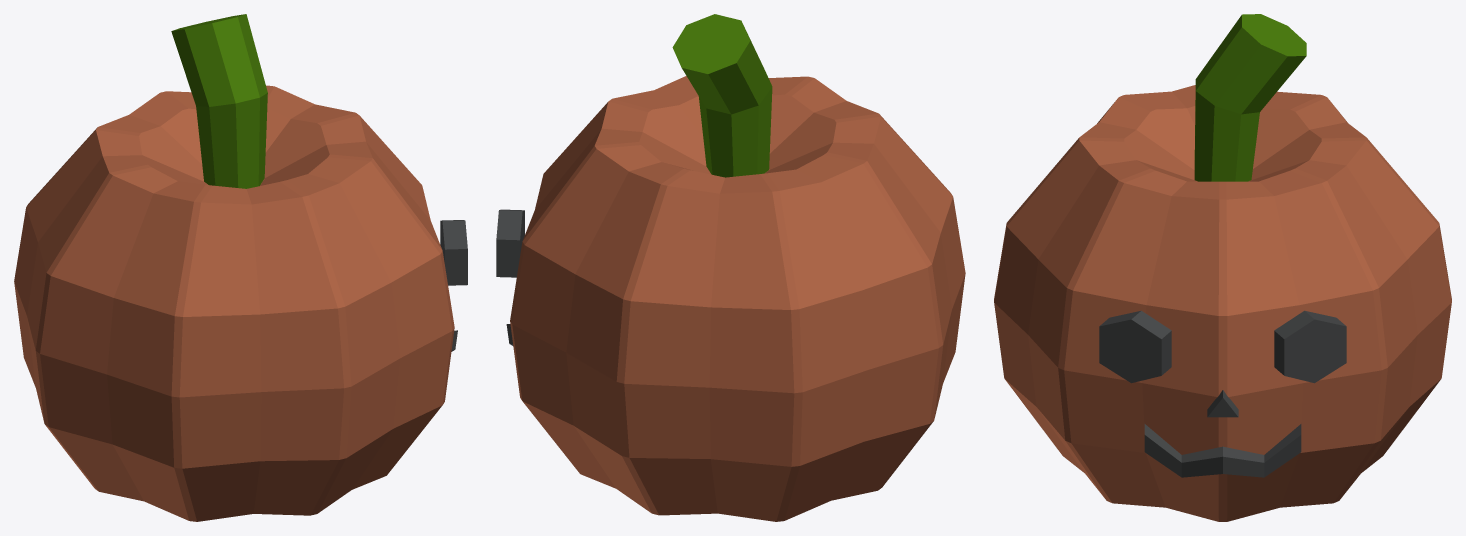
The model's file is pumpkin (2).fbx.
3 renders of one model, left to right at view 1: azimuth 30°, elevation 25°; view 2: azimuth 150°, elevation 25°; view 3: azimuth 270°, elevation 25°, orthographic. The views are drawn at different scales.
Parts seen in each view (by area): view 1: pumpkin; view 2: pumpkin; view 3: pumpkin.
Part boxes in pixels (x1,y1,x2,y2): pumpkin: (14,14,467,521); pumpkin: (496,14,965,521); pumpkin: (994,14,1451,521).
Size of the model in its own units: 282 by 285 by 273.
